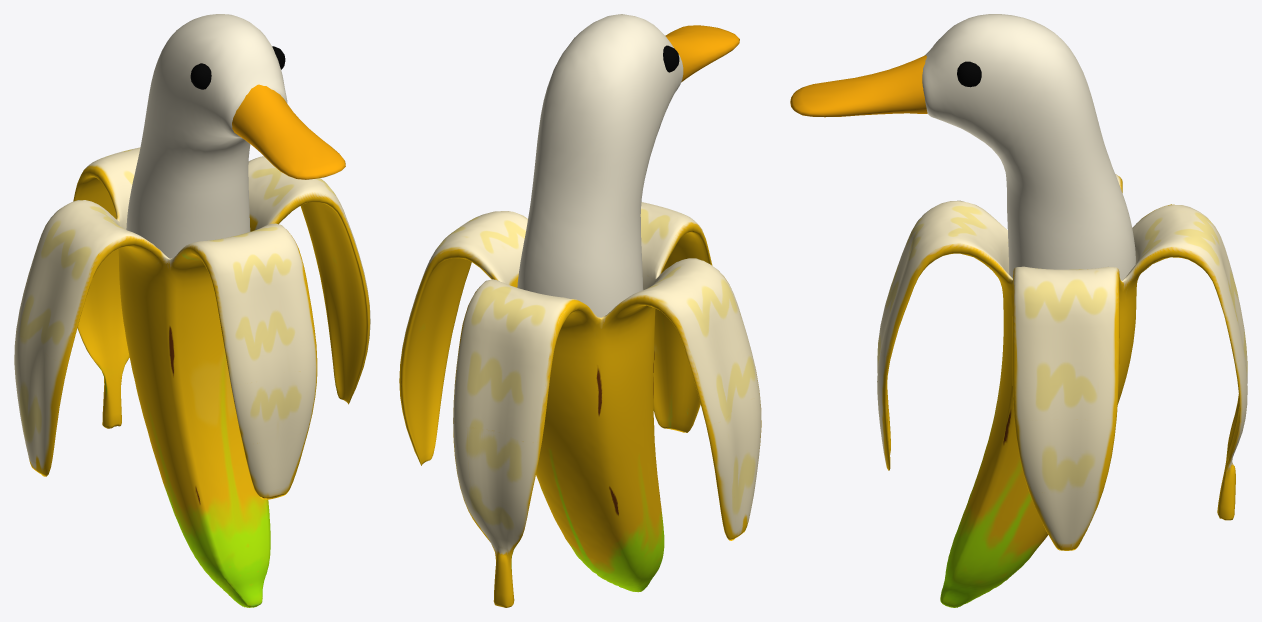
The model's file is duck.gltf.
3 renders of one model, left to right at view 1: azimuth 30°, elevation 25°; view 2: azimuth 150°, elevation 25°; view 3: azimuth 270°, elevation 25°, orthographic. The views are drawn at different scales.
Parts seen in each view (by area): view 1: banana peel_0; view 2: banana peel_0; view 3: banana peel_0.
Boxes of the visible parts, <box> form: banana peel_0: <box>14,14,370,607</box>; banana peel_0: <box>399,14,761,607</box>; banana peel_0: <box>790,14,1247,607</box>.
Bounding box in the file's own units: 2.52 × 4.25 × 3.01.
4 materials, 1 textured.
